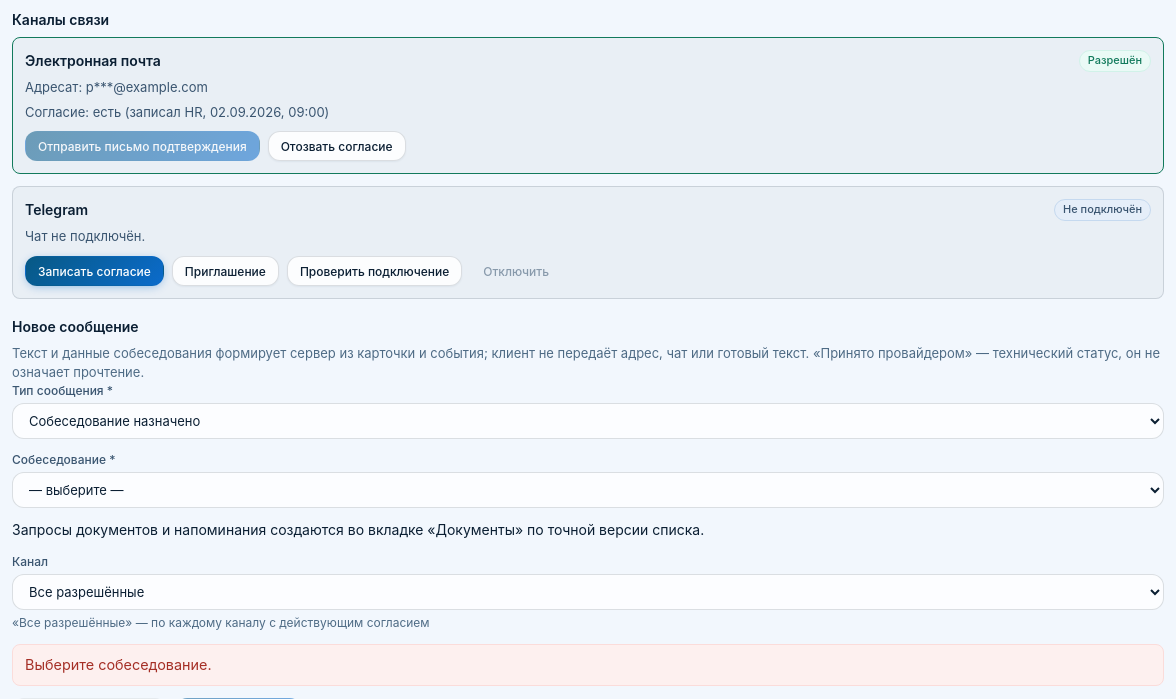
it: MessagesTab › surfaces the backend error when the send is refused
Select "Собеседование · 10.09.2026, 10:00 · Первичное интервью" in the dropdown labelled "Собеседование *" at (588, 490), box 12,472 -> 1164,508
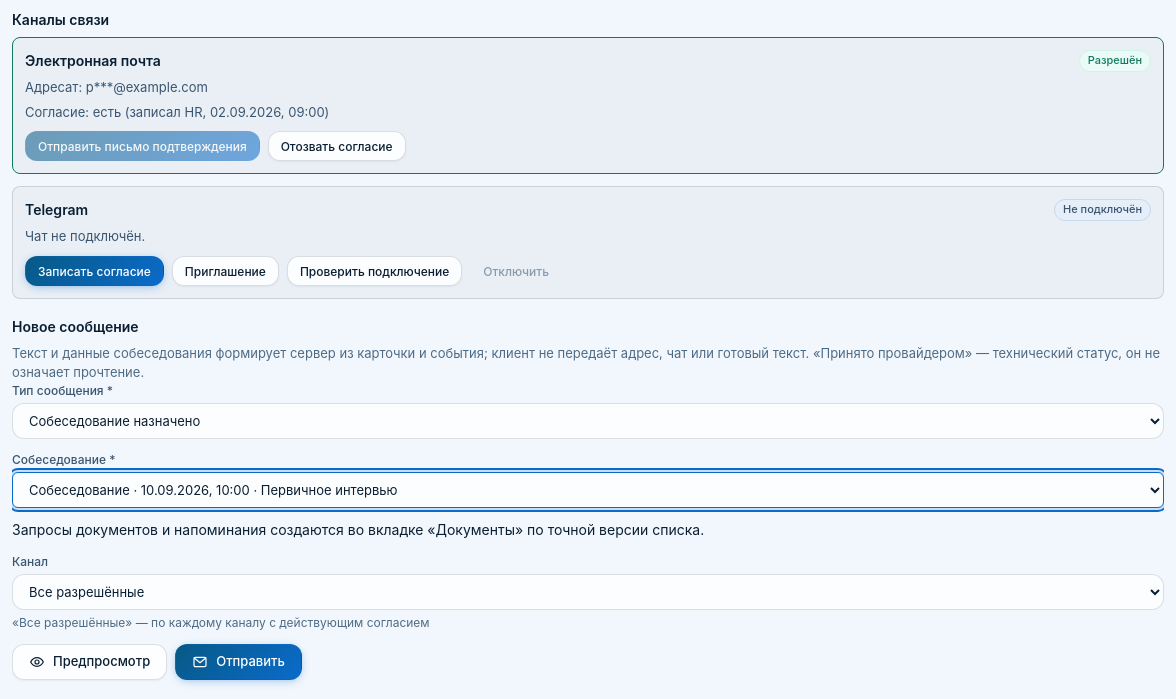
Click the button "Отправить" at (239, 662), box 175,644 -> 302,680
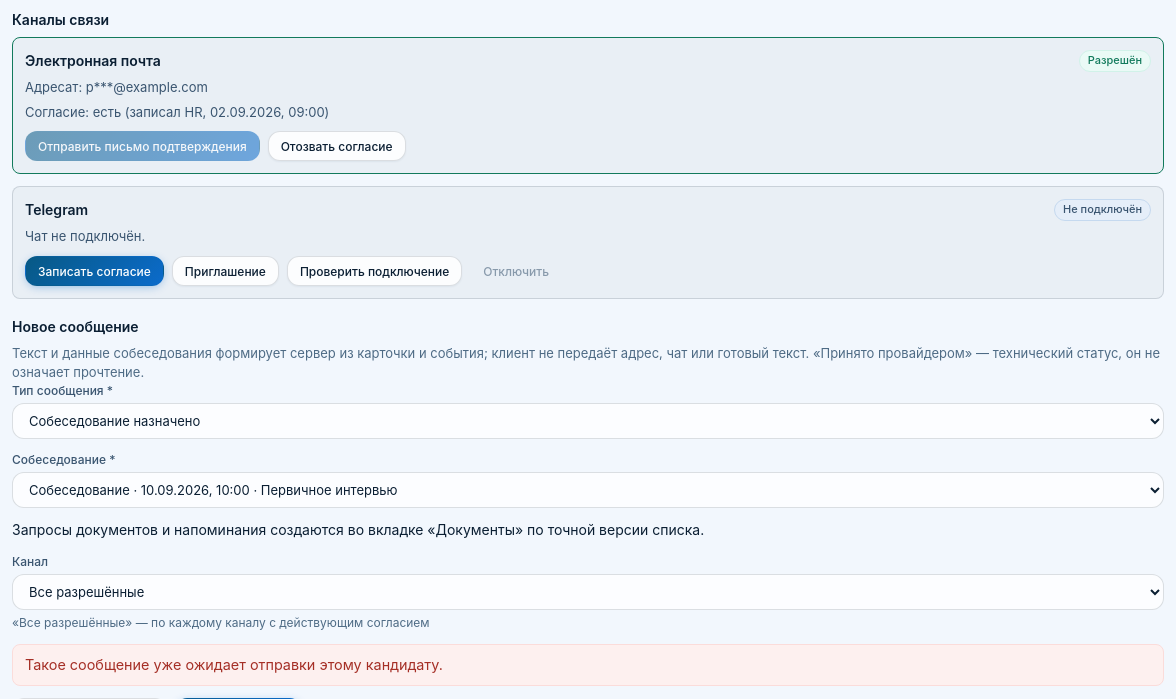
expect the text "Такое сообщение уже ожидает отправки этому кандидату." is shown: met, box 12,644 -> 1164,686
